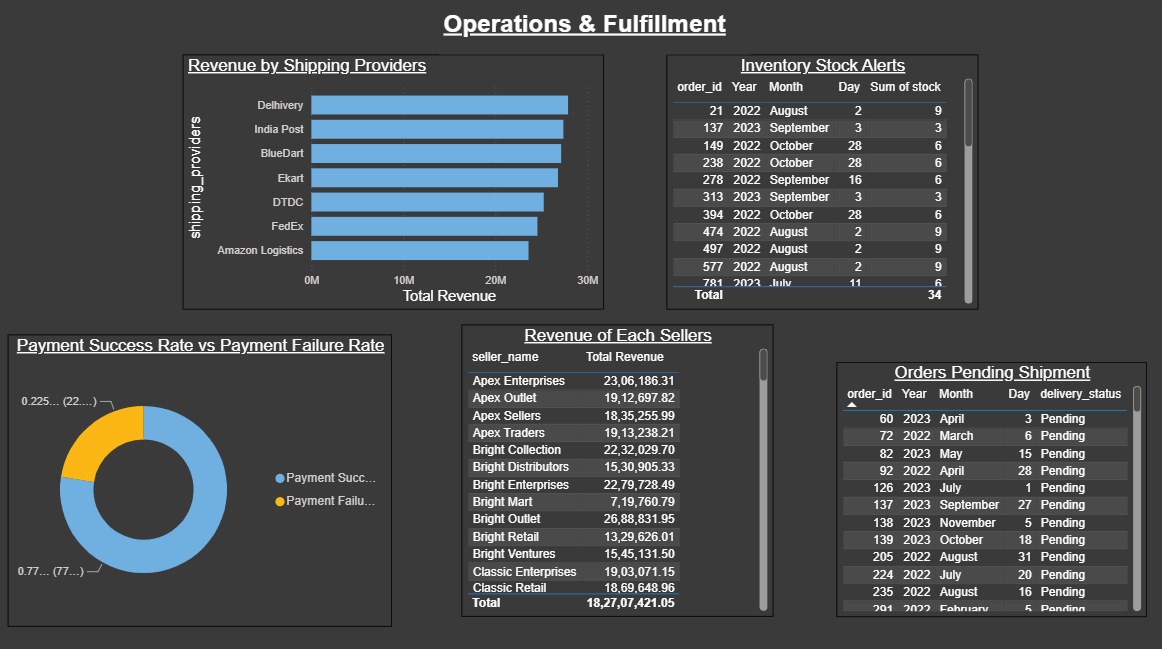

This screenshot's page, from the dashboard's own definition file:
{"tool":"powerbi","page":{"name":"Page 5","canvas":[1280,720],"ordinal":4},"visuals":[{"type":"clusteredBarChart","title":"Revenue by Shipping Providers","fields":{"Category":["shipping.shipping_providers"],"Y":["Measures (2).Total Revenue"]},"box":[201.5,63.8,462.5,279.8],"z":0},{"type":"donutChart","title":"Payment Success Rate  vs Payment Failure Rate","fields":{"Y":["Measures (2).Payment Success Rate %","Measures (2).Payment Failure Rate"]},"box":[10.1,371.2,421.9,320.4],"z":1000},{"type":"tableEx","title":"Inventory Stock Alerts","fields":{"Values":["orders.order_id","inventory.last_stock_date.Variation.Date Hierarchy.Year","inventory.last_stock_date.Variation.Date Hierarchy.Month","inventory.last_stock_date.Variation.Date Hierarchy.Day","Sum(inventory.stock)"]},"box":[732.2,63.8,342.2,279.8],"z":2000},{"type":"tableEx","title":"Revenue of Each Sellers","fields":{"Values":["seller.seller_name","Measures (2).Total Revenue"]},"box":[507.5,359.6,342.2,320.4],"z":3000},{"type":"tableEx","title":"Orders Pending Shipment","fields":{"Values":["orders.order_id","payments.payment_date.Variation.Date Hierarchy.Year","payments.payment_date.Variation.Date Hierarchy.Month","payments.payment_date.Variation.Date Hierarchy.Day","shipping.delivery_status"]},"box":[919.3,400.2,340.7,279.8],"z":4000},{"type":"textbox","box":[482.8,10.1,342.2,53.6],"z":5000}]}

Visuals, with their boxes in screenshot pixels (x1, y1, x2, y2), scaled from the page's 1280x720 canvas onto the 1162x649 screenshot:
"Revenue by Shipping Providers" clusteredBarChart: (183, 58, 603, 310)
"Payment Success Rate  vs Payment Failure Rate" donutChart: (9, 335, 392, 623)
"Inventory Stock Alerts" tableEx: (665, 58, 975, 310)
"Revenue of Each Sellers" tableEx: (461, 324, 771, 613)
"Orders Pending Shipment" tableEx: (835, 361, 1144, 613)
textbox: (438, 9, 749, 57)
